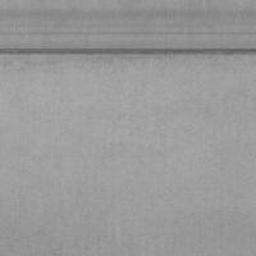Welding line: (0, 48, 256, 55), (149, 10, 176, 18), (124, 11, 142, 17)
